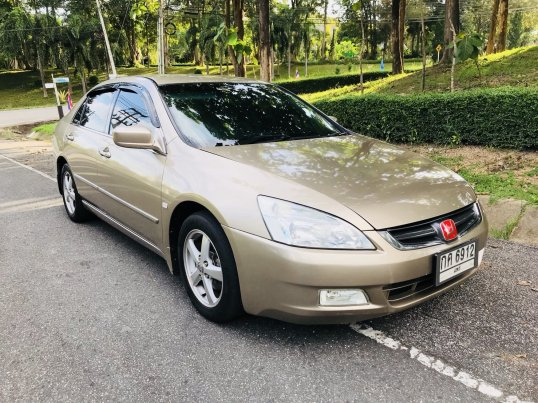sedan: (46, 71, 490, 326)
